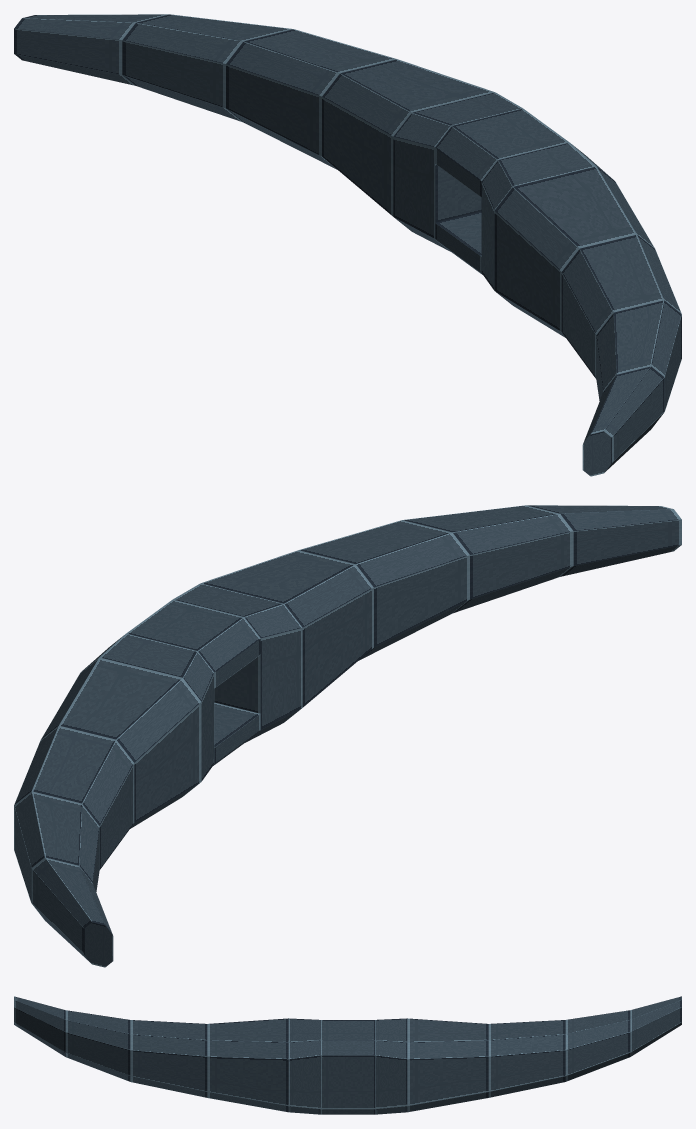
File: bench_pickaxe_2.obj
3 views of the same model, one above another, from view 1: azimuth 30°, elevation 25°; view 2: azimuth 150°, elevation 25°; view 3: azimuth 270°, elevation 25° (orthographic). The views are drawn at different scales.
Visible parts, largest first — view 1: geometry; view 2: geometry; view 3: geometry.
Boxes of the visible parts, box(x1,y1,x2,y2) form: geometry: box(14, 14, 681, 476); geometry: box(14, 505, 681, 967); geometry: box(14, 996, 681, 1114).
Bounding box in the file's own units: 0.2028 × 0.092 × 0.75.
